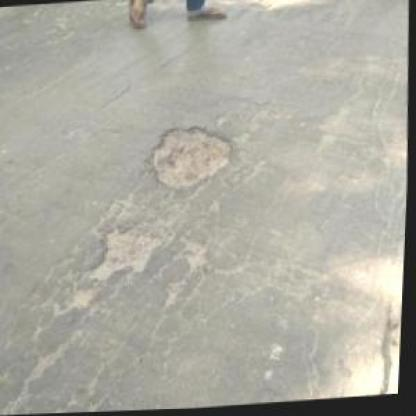pothole: (146, 122, 235, 193), (83, 224, 165, 282)
